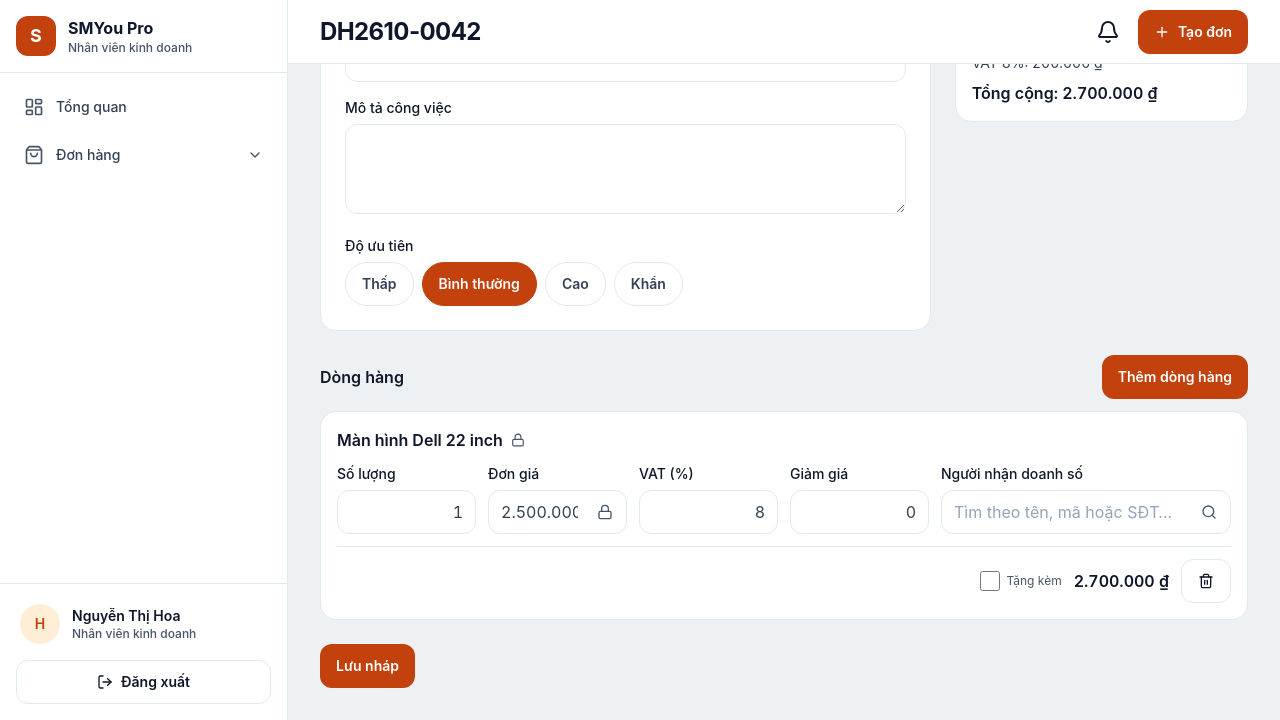
Test case: AC-ORD-122 409 STALE_VERSION thật vẫn báo và Tải lại được › AC-ORD-122 banner đỏ, Tải lại nhận version 7, lần lưu sau gửi version 7
(page scrolled)
Check: the heading "DH2610-0042" is shown, box [320,16,481,48]
Click the button "Lưu nháp" at (368, 666), box [320,644,415,688]
(page scrolled)
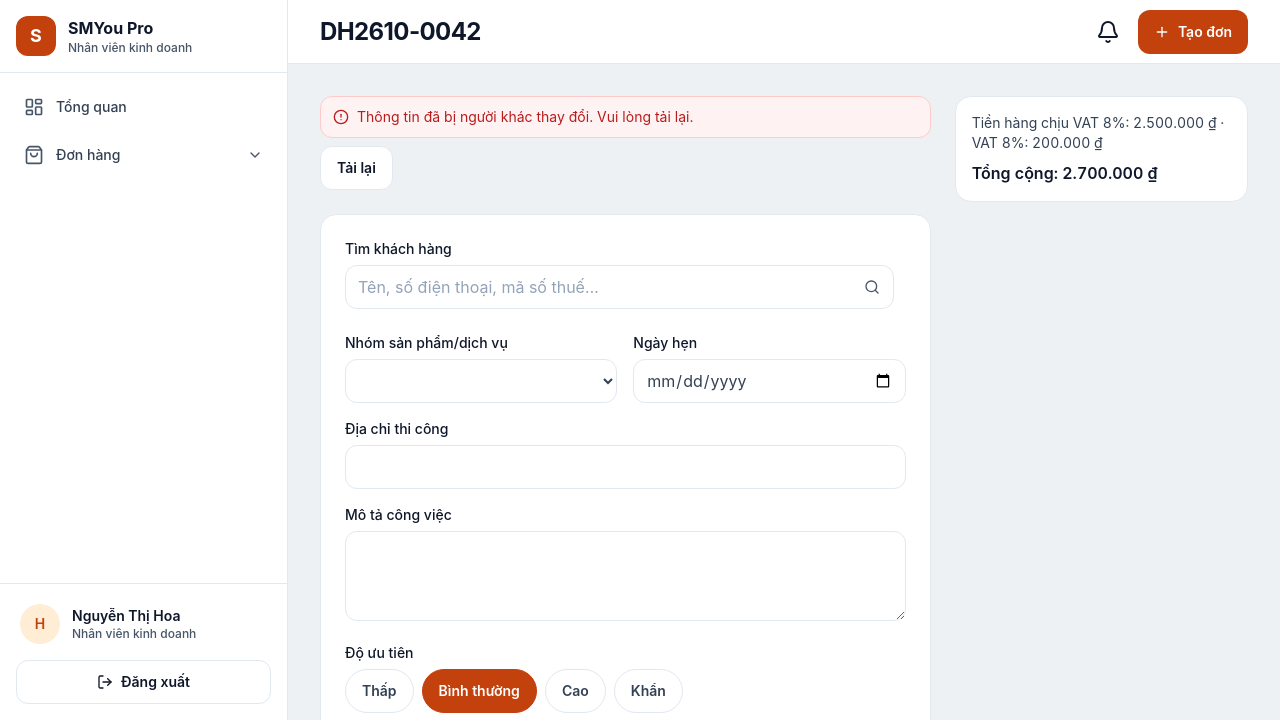
Check: the text "Thông tin đã bị người khác thay đổi. Vui lòng tải lại." is shown, box [357,107,694,127]
Click the button "Tải lại" at (356, 168), box [320,146,393,190]
(page scrolled)
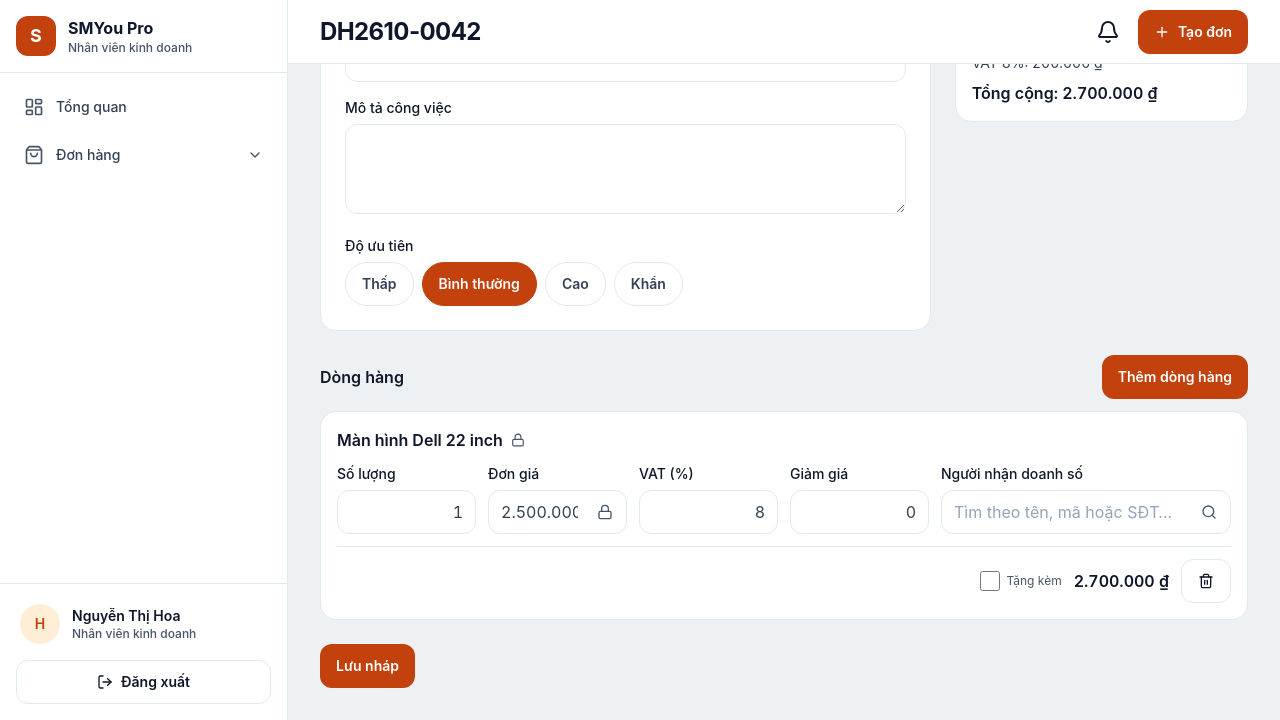
Check: the text "Thông tin đã bị người khác thay đổi. Vui lòng tải lại." is gone
Click the button "Lưu nháp" at (368, 666), box [320,644,415,688]
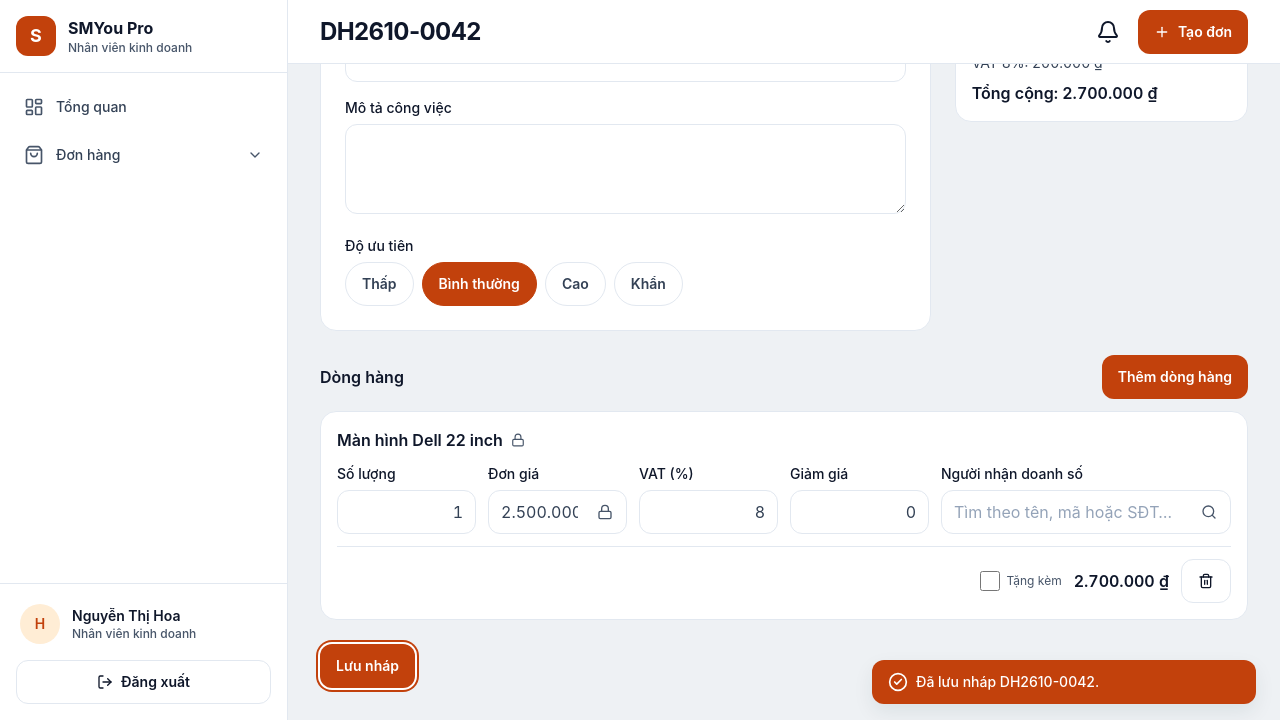
Check: the text "Đã lưu nháp DH2610-0042." is shown, box [872,660,1256,704]
